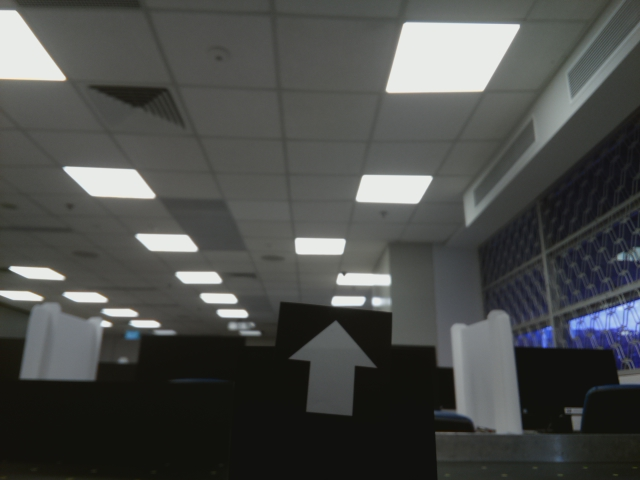up: (283, 310, 380, 427)
